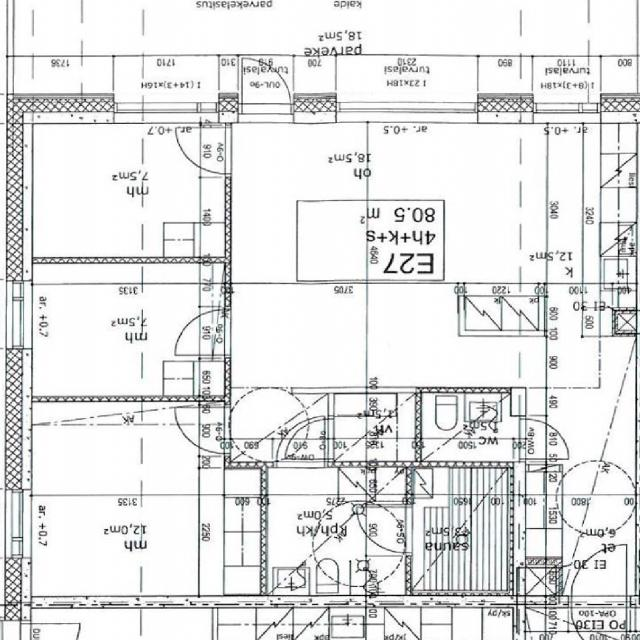door: (570, 544, 626, 607), (242, 58, 290, 123), (174, 407, 230, 453), (175, 309, 231, 355), (174, 128, 230, 174), (570, 595, 626, 640), (356, 507, 412, 552), (276, 417, 325, 467), (284, 419, 333, 459), (520, 419, 568, 459)
